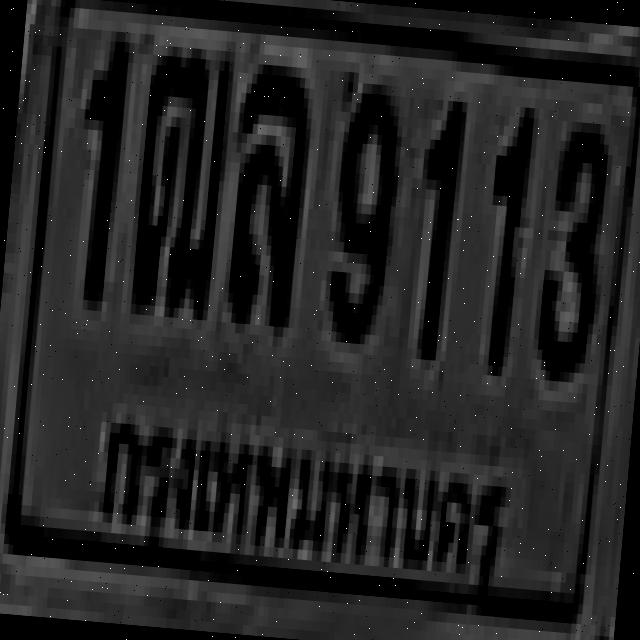1: (68, 29, 125, 301), (407, 88, 463, 350), (476, 100, 532, 362)
27ThorPhuThao: (126, 34, 231, 310)
3: (531, 110, 606, 373)
45LorLing: (221, 58, 311, 322)
9: (322, 71, 402, 335)
Bangkok: (80, 368, 516, 600)
